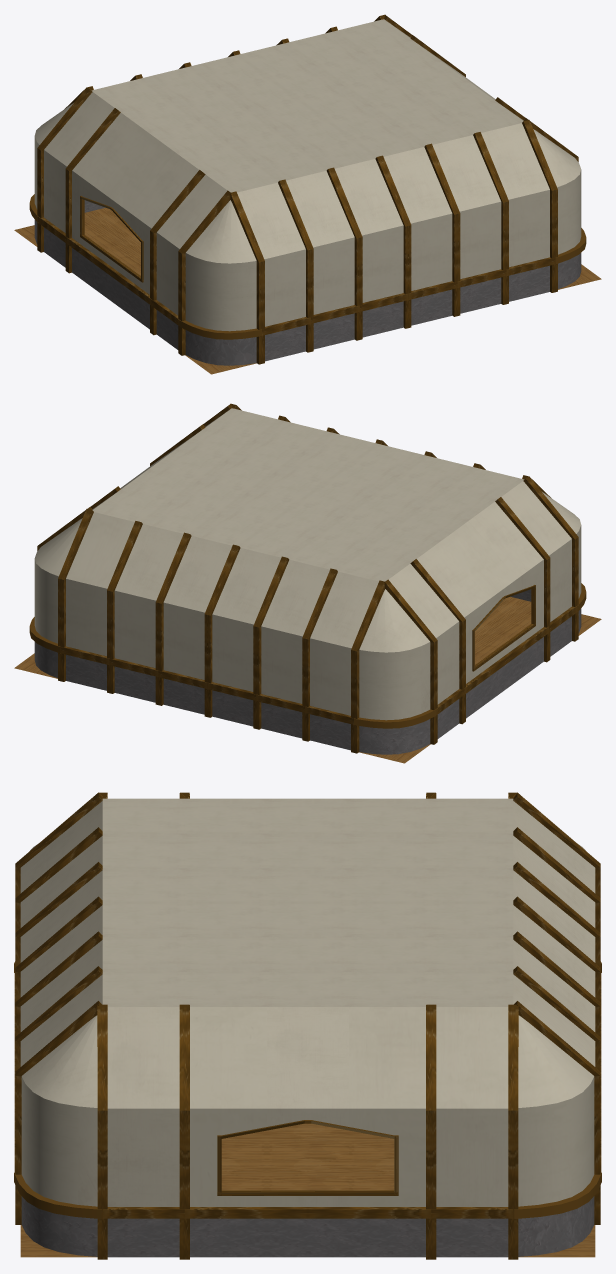
Rendered from DefaultRoom.fbx.
The picture shows the model from 3 angles, top to bottom: view 1: azimuth 30°, elevation 25°; view 2: azimuth 150°, elevation 25°; view 3: azimuth 270°, elevation 25°; orthographic projection. The views are drawn at different scales.
Parts seen in each view (by area): view 1: Wall.002, Wall.004, Wall.003, Wall.001, Rock.003, Beam.006, Beam.008, Wall, Beam.004, Beam.001, Plane.008, Plane.009 (+26 smaller); view 2: Wall.002, Wall.004, Wall.003, Wall.001, Rock.003, Beam.006, Beam.008, Wall, Beam.004, Beam.001, Plane.005, Plane.006 (+26 smaller); view 3: Wall.002, Wall.001, Rock.003, Wall, Beam.006, Wall.004, Wall.003, Beam.008, Rock.001, Plane.021, Plane.022, Plane.024 (+24 smaller).
Part boxes in pixels (bbox=[...]): Wall.002: bbox=[34, 23, 581, 331]; Wall.004: bbox=[335, 147, 452, 302]; Wall.003: bbox=[286, 135, 501, 314]; Wall.001: bbox=[72, 45, 494, 294]; Rock.003: bbox=[34, 200, 581, 365]; Beam.006: bbox=[65, 15, 557, 364]; Beam.008: bbox=[179, 38, 460, 340]; Wall: bbox=[98, 64, 495, 277]; Beam.004: bbox=[37, 15, 578, 355]; Beam.001: bbox=[65, 35, 525, 335]; Plane.008: bbox=[119, 40, 439, 131]; Plane.009: bbox=[91, 19, 411, 110]; Wall.002: bbox=[34, 412, 581, 720]; Wall.004: bbox=[163, 536, 280, 691]; Wall.003: bbox=[114, 524, 329, 703]; Wall.001: bbox=[121, 434, 543, 683]; Rock.003: bbox=[34, 589, 581, 754]; Beam.006: bbox=[58, 404, 550, 753]; Beam.008: bbox=[155, 427, 436, 729]; Wall: bbox=[120, 453, 517, 666]; Beam.004: bbox=[37, 404, 578, 744]; Beam.001: bbox=[90, 424, 550, 724]; Plane.005: bbox=[204, 408, 524, 499]; Plane.006: bbox=[176, 429, 496, 520]; Wall.002: bbox=[20, 801, 595, 1206]; Wall.001: bbox=[190, 1007, 425, 1206]; Rock.003: bbox=[21, 1196, 594, 1257]; Wall: bbox=[267, 1007, 348, 1206]; Beam.006: bbox=[15, 793, 600, 1224]; Wall.004: bbox=[20, 870, 595, 997]; Wall.003: bbox=[20, 836, 595, 1031]; Beam.008: bbox=[15, 862, 600, 1036]; Rock.001: bbox=[190, 1218, 425, 1257]; Plane.021: bbox=[102, 833, 184, 972]; Plane.022: bbox=[184, 833, 266, 972]; Plane.024: bbox=[349, 833, 431, 972].
Bounding box in the file's own units: 16.32 × 14.32 × 5.91.
